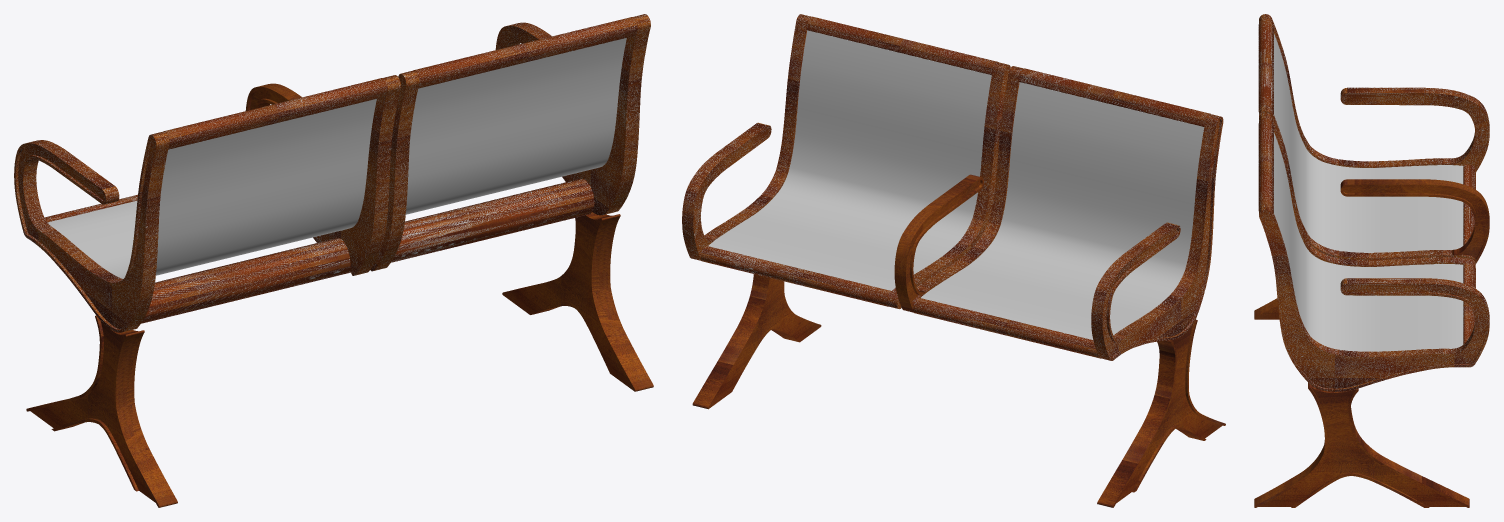
3 renders of one model, left to right at view 1: azimuth 30°, elevation 25°; view 2: azimuth 150°, elevation 25°; view 3: azimuth 270°, elevation 25°, orthographic. The views are drawn at different scales.
Visible parts, largest first — view 1: mesh2_mesh2-geometry, mesh7_mesh7-geometry, mesh11_mesh11-geometry, mesh5_mesh5-geometry, mesh12_mesh12-geometry, mesh13_mesh13-geometry, mesh10_mesh10-geometry, mesh1_mesh1-geometry, mesh4_mesh4-geometry, mesh9_mesh9-geometry, mesh6_mesh6-geometry, mesh14_mesh14-geometry; view 2: mesh7_mesh7-geometry, mesh2_mesh2-geometry, mesh5_mesh5-geometry, mesh12_mesh12-geometry, mesh10_mesh10-geometry, mesh9_mesh9-geometry, mesh4_mesh4-geometry, mesh13_mesh13-geometry, mesh6_mesh6-geometry, mesh1_mesh1-geometry, mesh14_mesh14-geometry; view 3: mesh7_mesh7-geometry, mesh2_mesh2-geometry, mesh10_mesh10-geometry, mesh13_mesh13-geometry, mesh5_mesh5-geometry, mesh14_mesh14-geometry, mesh4_mesh4-geometry, mesh9_mesh9-geometry, mesh6_mesh6-geometry, mesh1_mesh1-geometry, mesh12_mesh12-geometry.
Part boxes in pixels (x1,y1,x2,y2): mesh2_mesh2-geometry: [47, 99, 376, 278]; mesh7_mesh7-geometry: [405, 38, 626, 214]; mesh11_mesh11-geometry: [141, 178, 594, 323]; mesh5_mesh5-geometry: [14, 131, 169, 332]; mesh12_mesh12-geometry: [26, 315, 177, 507]; mesh13_mesh13-geometry: [502, 212, 653, 391]; mesh10_mesh10-geometry: [495, 14, 650, 215]; mesh1_mesh1-geometry: [313, 75, 400, 275]; mesh4_mesh4-geometry: [44, 78, 387, 222]; mesh9_mesh9-geometry: [413, 17, 637, 88]; mesh6_mesh6-geometry: [370, 70, 419, 271]; mesh14_mesh14-geometry: [245, 83, 301, 110]; mesh7_mesh7-geometry: [708, 30, 991, 290]; mesh2_mesh2-geometry: [921, 82, 1204, 339]; mesh5_mesh5-geometry: [1091, 114, 1223, 360]; mesh12_mesh12-geometry: [1097, 319, 1225, 507]; mesh10_mesh10-geometry: [682, 14, 810, 260]; mesh9_mesh9-geometry: [700, 16, 998, 306]; mesh4_mesh4-geometry: [913, 68, 1210, 358]; mesh13_mesh13-geometry: [692, 274, 821, 409]; mesh6_mesh6-geometry: [886, 62, 1010, 309]; mesh1_mesh1-geometry: [902, 66, 1023, 312]; mesh14_mesh14-geometry: [894, 174, 983, 311]; mesh7_mesh7-geometry: [1274, 132, 1463, 351]; mesh2_mesh2-geometry: [1274, 33, 1463, 252]; mesh10_mesh10-geometry: [1259, 204, 1489, 391]; mesh13_mesh13-geometry: [1254, 382, 1469, 507]; mesh5_mesh5-geometry: [1259, 14, 1489, 171]; mesh14_mesh14-geometry: [1340, 179, 1489, 263]; mesh4_mesh4-geometry: [1258, 19, 1475, 245]; mesh9_mesh9-geometry: [1258, 118, 1475, 344]; mesh6_mesh6-geometry: [1259, 113, 1475, 267]; mesh1_mesh1-geometry: [1259, 105, 1475, 262]; mesh12_mesh12-geometry: [1254, 298, 1279, 319].
Size of the model in its own units: 0.7529 by 0.5354 by 0.3827.
